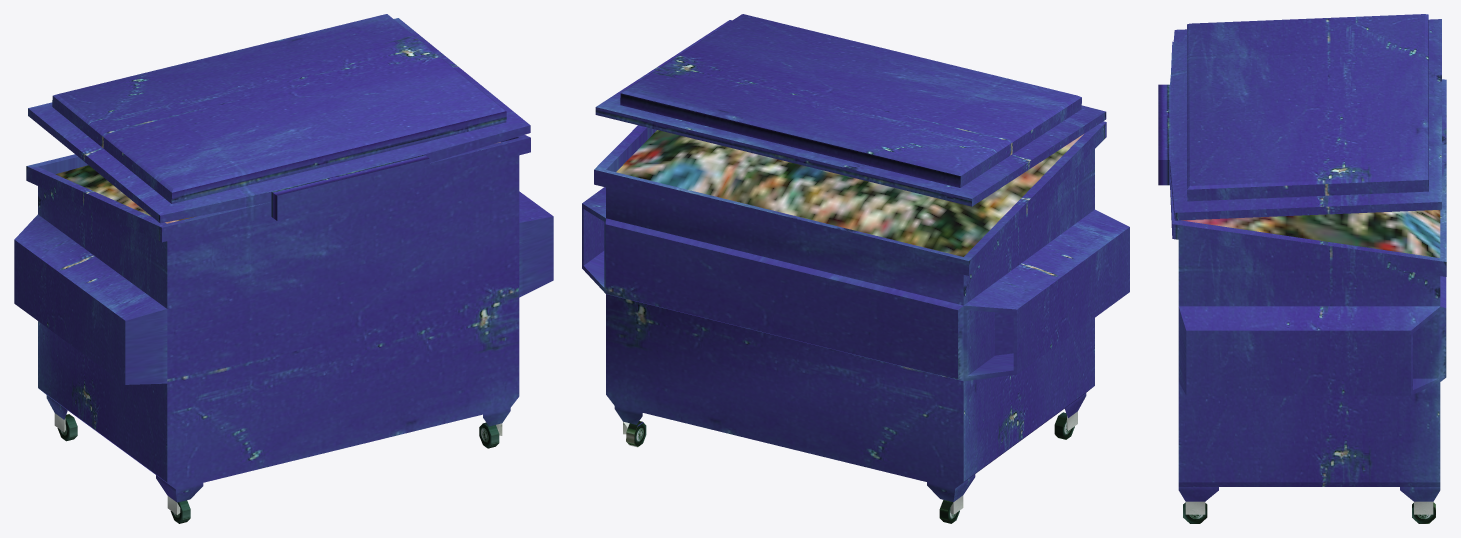
Rendered from Garbage01.fbx.
3 views of the same model, side by side, from view 1: azimuth 30°, elevation 25°; view 2: azimuth 150°, elevation 25°; view 3: azimuth 270°, elevation 25° (orthographic).
Parts seen in each view (by area): view 1: Empty_Mesh; view 2: Empty_Mesh; view 3: Empty_Mesh.
Part boxes in pixels (bbox=[...]): Empty_Mesh: bbox=[14, 14, 553, 523]; Empty_Mesh: bbox=[582, 14, 1129, 523]; Empty_Mesh: bbox=[1158, 14, 1446, 523].
Size of the model in its own units: 207 by 160 by 119.
